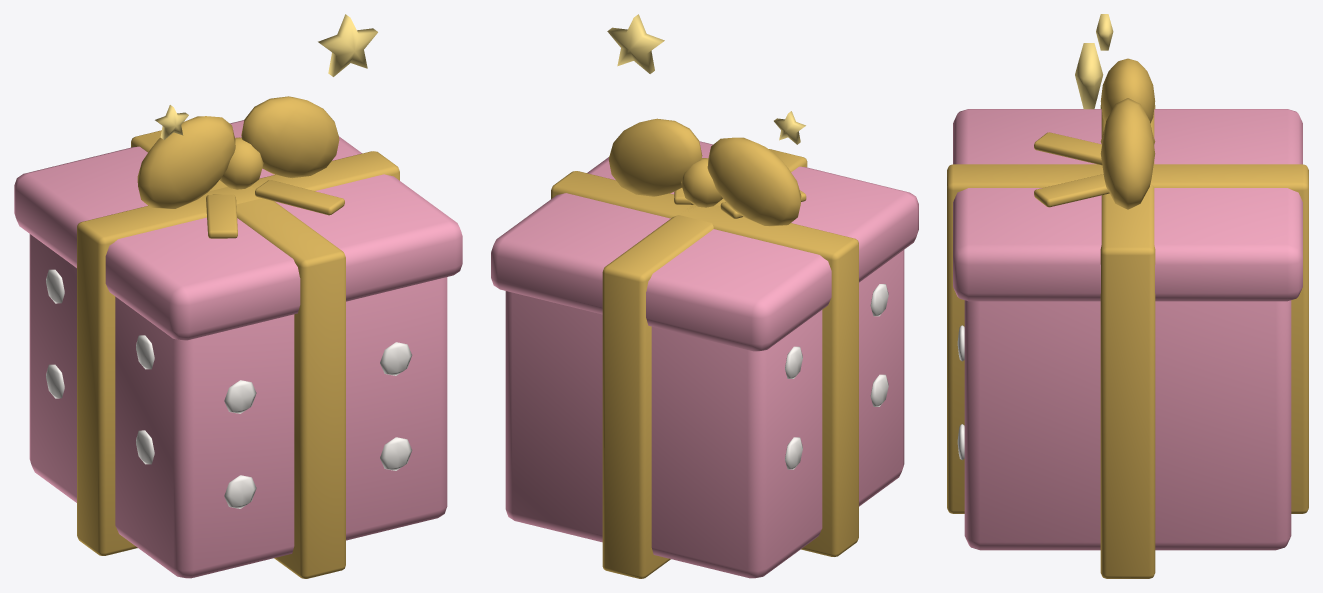
The model's file is gift-box.glb.
The picture shows the model from 3 angles, left to right: view 1: azimuth 30°, elevation 25°; view 2: azimuth 150°, elevation 25°; view 3: azimuth 270°, elevation 25°; orthographic projection. The views are drawn at different scales.
Visible parts, largest first — view 1: gift; view 2: gift; view 3: gift.
Part boxes in pixels (x1,y1,x2,y2): gift: [14, 14, 462, 578]; gift: [491, 14, 918, 578]; gift: [947, 14, 1308, 578].
Size of the model in its own units: 0.465 by 0.72 by 0.465.
